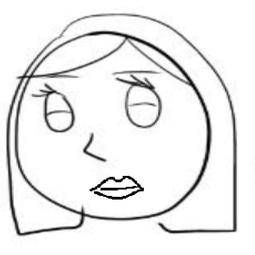cupid_mouth: (87, 172, 151, 206), (85, 175, 147, 202)
eye: (114, 75, 171, 133), (29, 81, 78, 134)
eyebrow: (112, 67, 162, 78), (48, 69, 84, 81)
nose: (76, 129, 110, 163)
